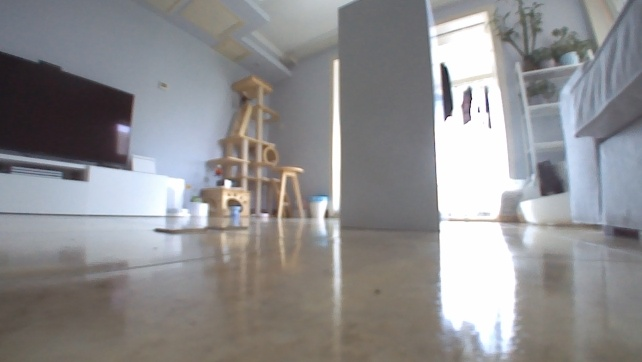TV_stand1: (0, 148, 188, 224)
sofa1: (555, 0, 641, 235)
